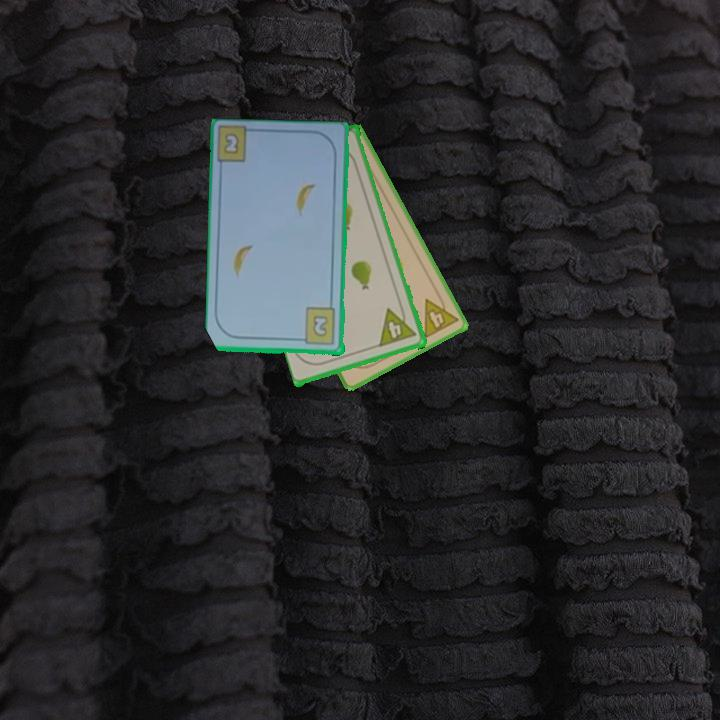2b: (295, 305, 338, 348), (221, 129, 242, 157)
4p: (420, 289, 461, 342), (376, 302, 420, 349)
